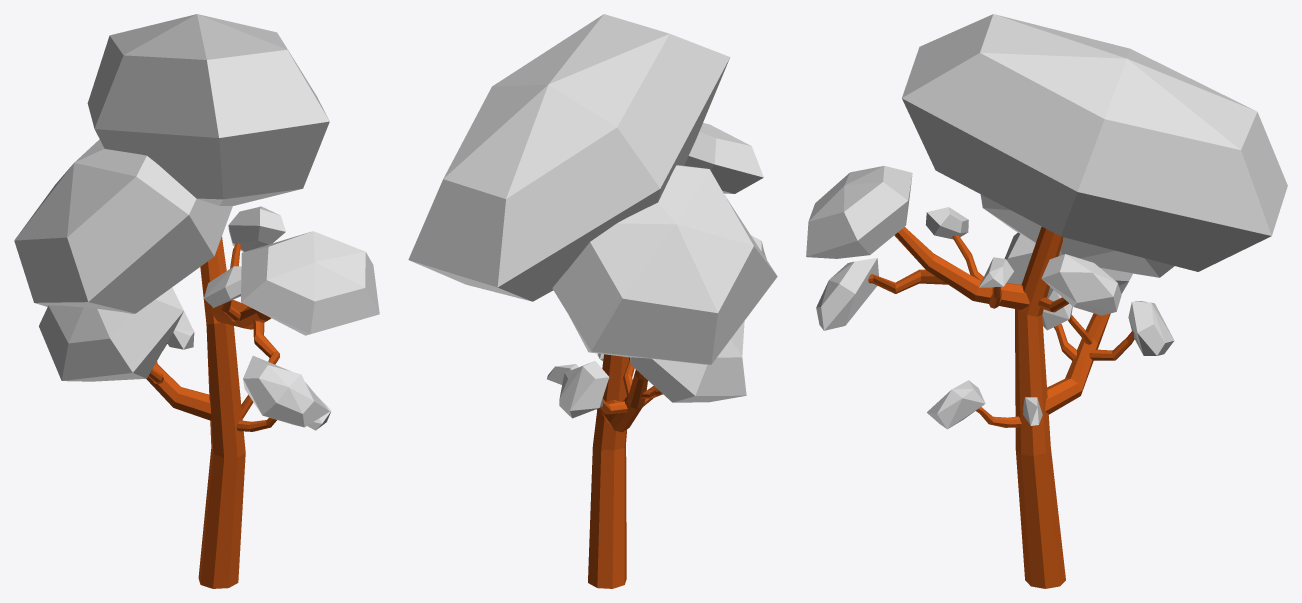
File: leaftree09.fbx
3 renders of one model, left to right at view 1: azimuth 30°, elevation 25°; view 2: azimuth 150°, elevation 25°; view 3: azimuth 270°, elevation 25°, orthographic. The views are drawn at different scales.
Parts seen in each view (by area): view 1: Sphere.011; view 2: Sphere.011; view 3: Sphere.011.
Boxes of the visible parts, x1=… form: Sphere.011: x1=14, y1=14, x2=379, y2=588; Sphere.011: x1=408, y1=14, x2=777, y2=588; Sphere.011: x1=806, y1=14, x2=1287, y2=588.
Bounding box in the file's own units: 377 × 725 × 577.
